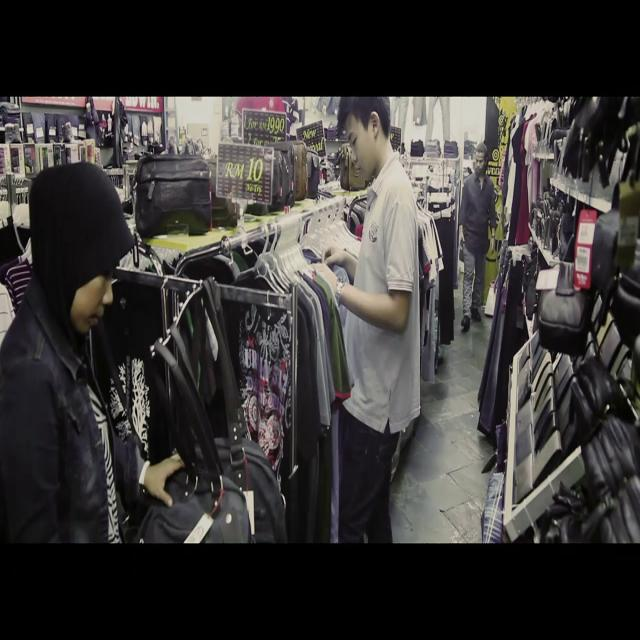normal: (0, 135, 247, 547), (281, 95, 465, 546), (444, 144, 502, 348)
